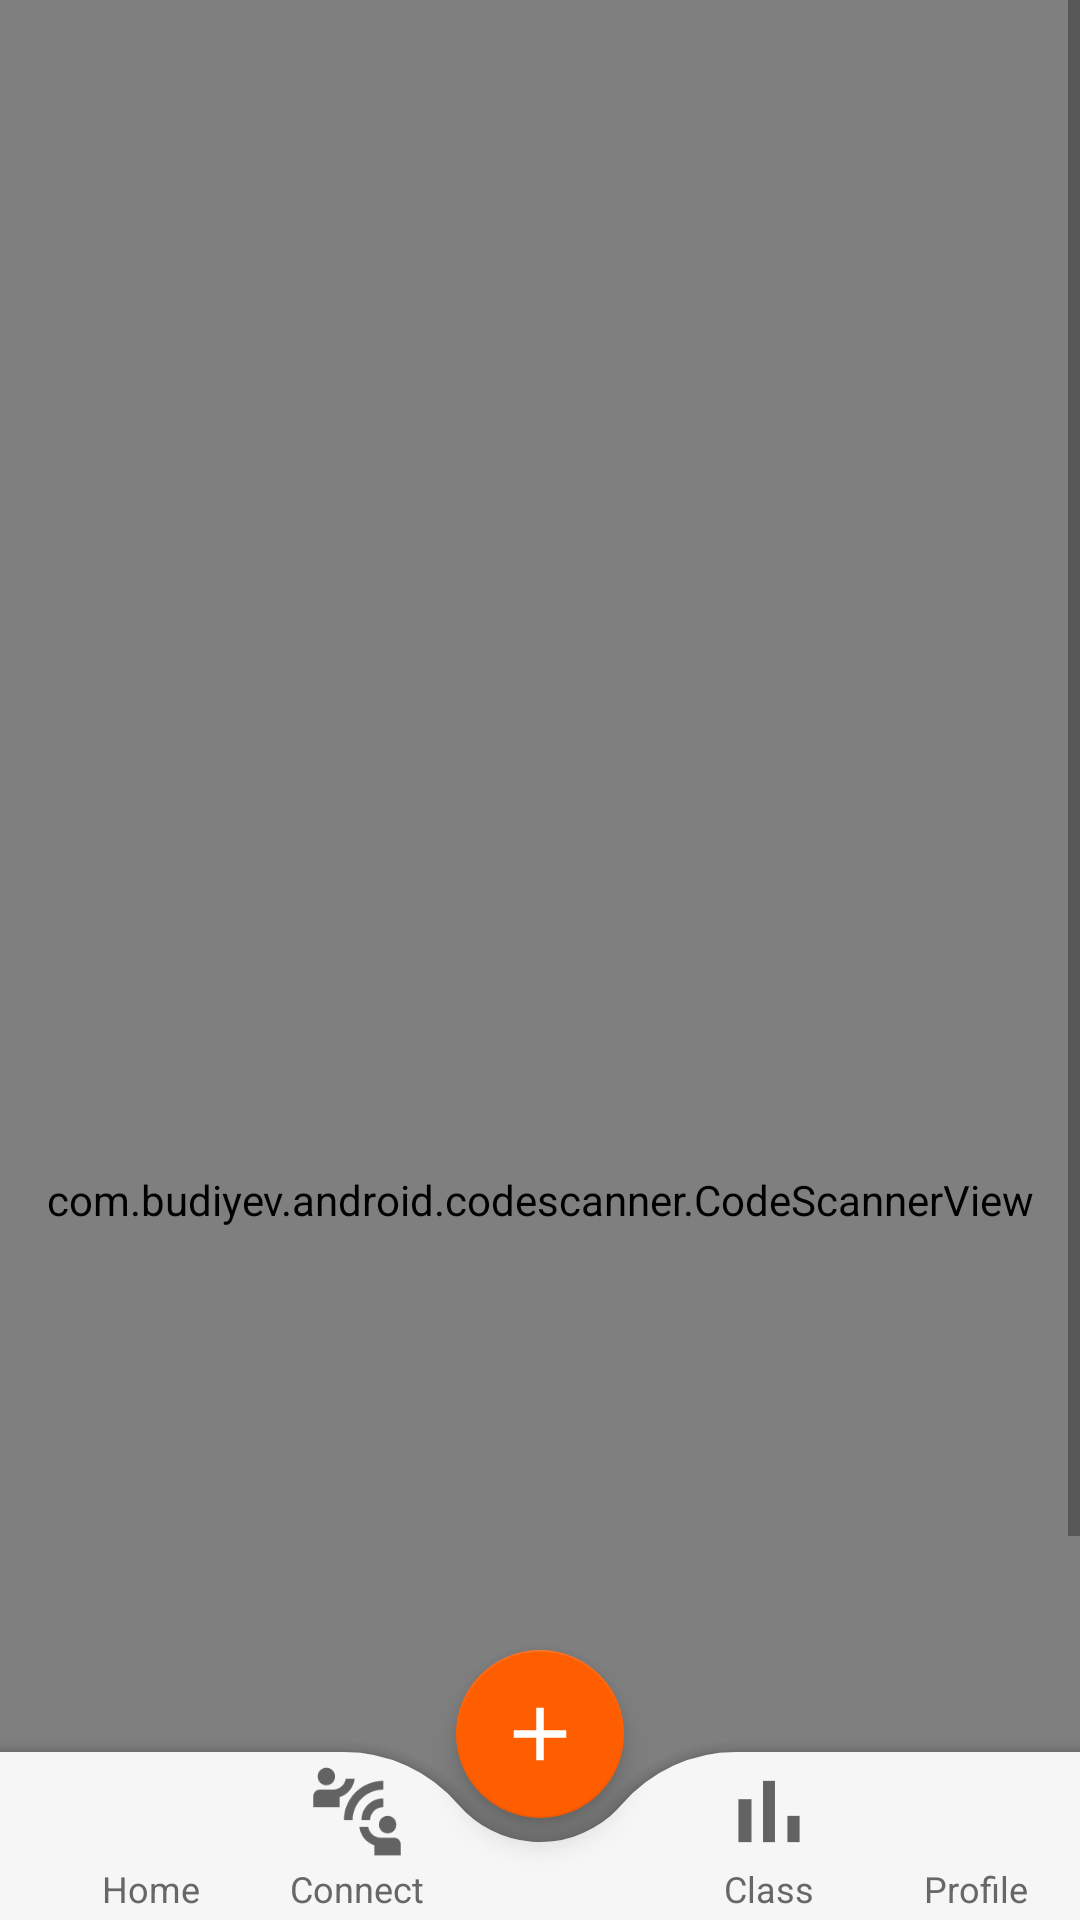

Named icons in this screenshot (1080px x 1920px) and their centers, (x=x, y=y):
add: (x=540, y=1752)
chart: (x=769, y=1811)
